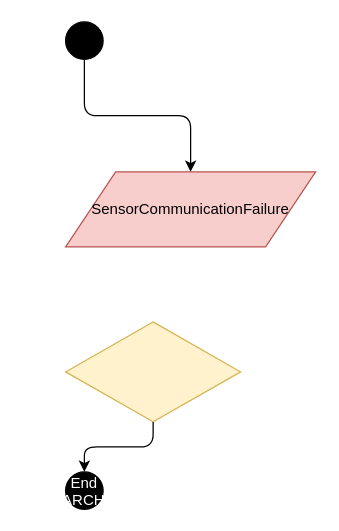
Some shapes in this 339 by 531 pixel diagram are drawn without their labels. The shapes that lost their labels are listed below. From the top down, each one's centre as x and y in pixels, then its label:
the point at 83,40: Start [REQ-ARCH-0100]
the point at 152,371: TransitionToDegradedMode
